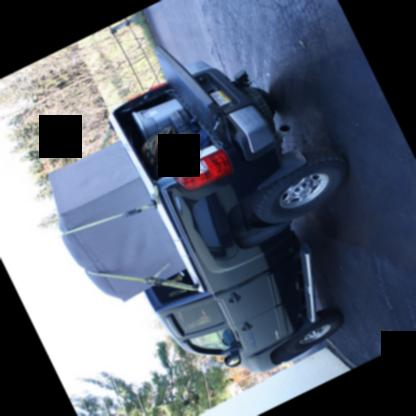backpack: (142, 124, 180, 157), (151, 138, 184, 174)
suitcase: (168, 107, 192, 133)
